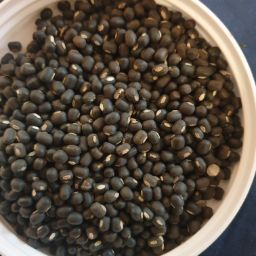Black Gram(urad daal): (69, 6, 248, 217), (45, 2, 192, 256), (1, 39, 139, 256), (4, 68, 236, 197)
